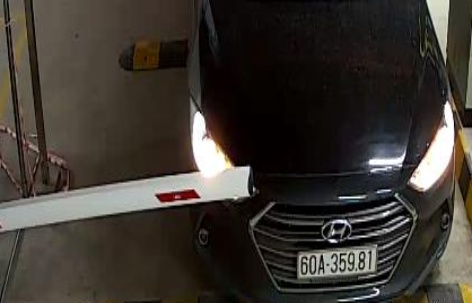plate: (292, 245, 384, 280)
